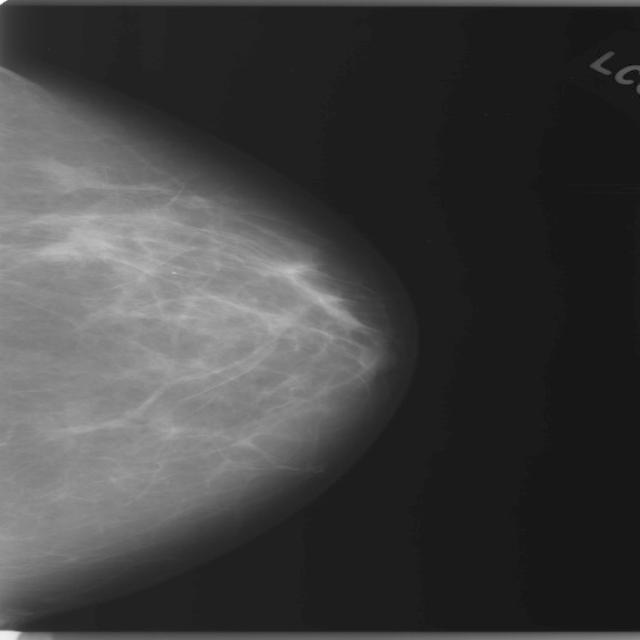tumour: (33, 227, 110, 262)
